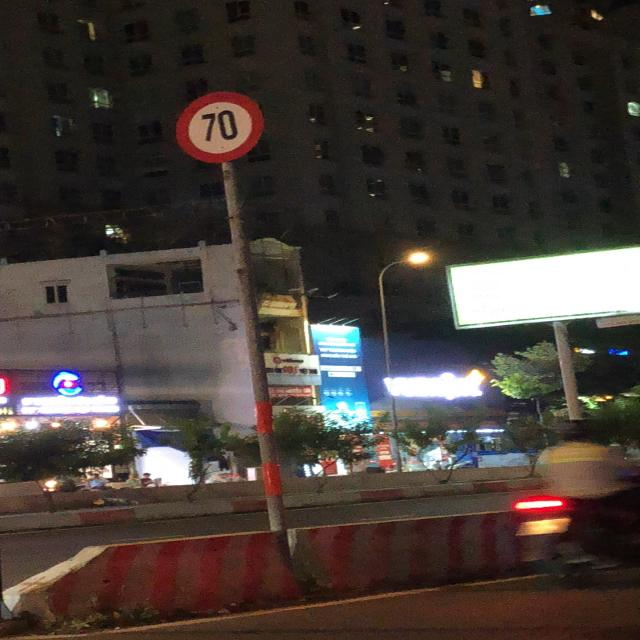Bien bao toc do toi da cho phep: (172, 90, 272, 159)
